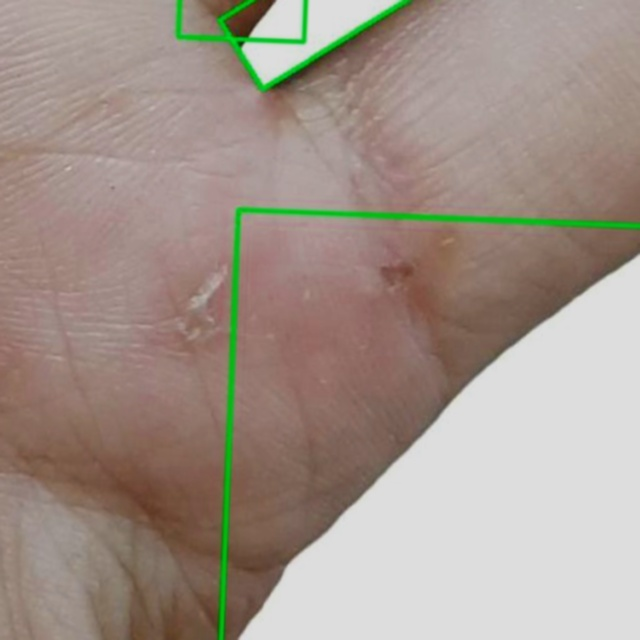Scabies: (219, 210, 639, 639), (218, 0, 405, 89)
